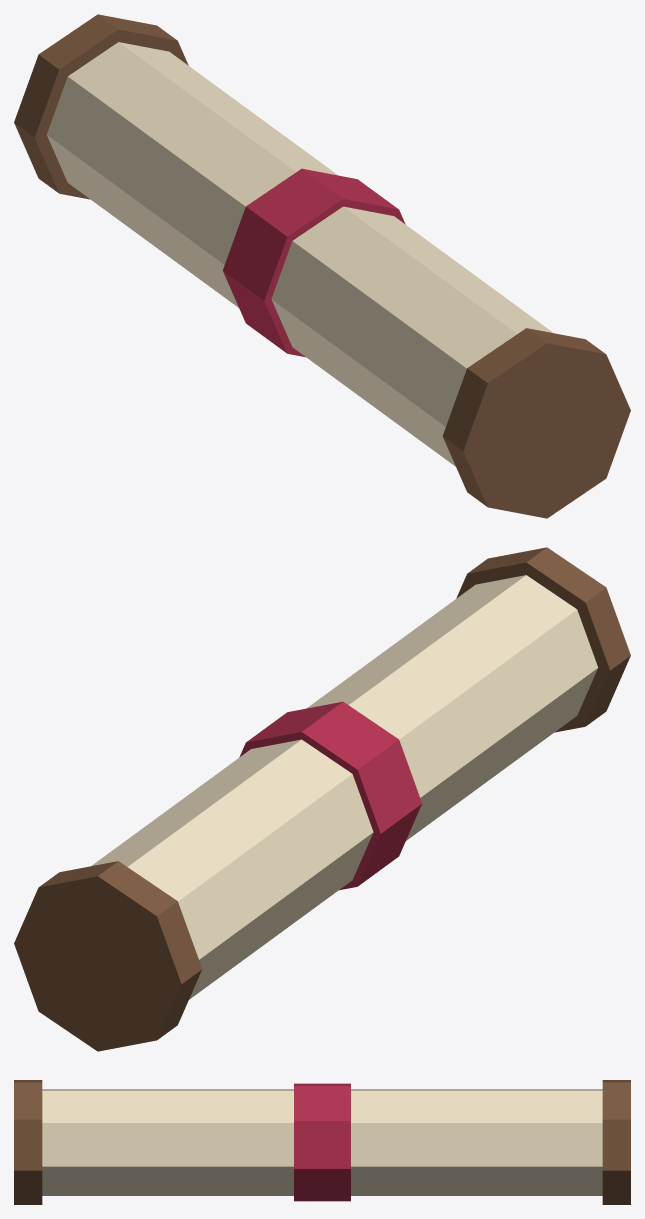
File: artifact_scroll.glb
3 views of the same model, one above another, from view 1: azimuth 30°, elevation 25°; view 2: azimuth 150°, elevation 25°; view 3: azimuth 270°, elevation 25° (orthographic). The views are drawn at different scales.
Visible parts, largest first — view 1: artifact_scroll; view 2: artifact_scroll; view 3: artifact_scroll.
Part boxes in pixels (<box>): artifact_scroll: <box>14,14,630,518</box>; artifact_scroll: <box>14,547,630,1051</box>; artifact_scroll: <box>14,1080,630,1204</box>.
Size of the model in its own units: 0.07 by 0.07 by 0.325.
